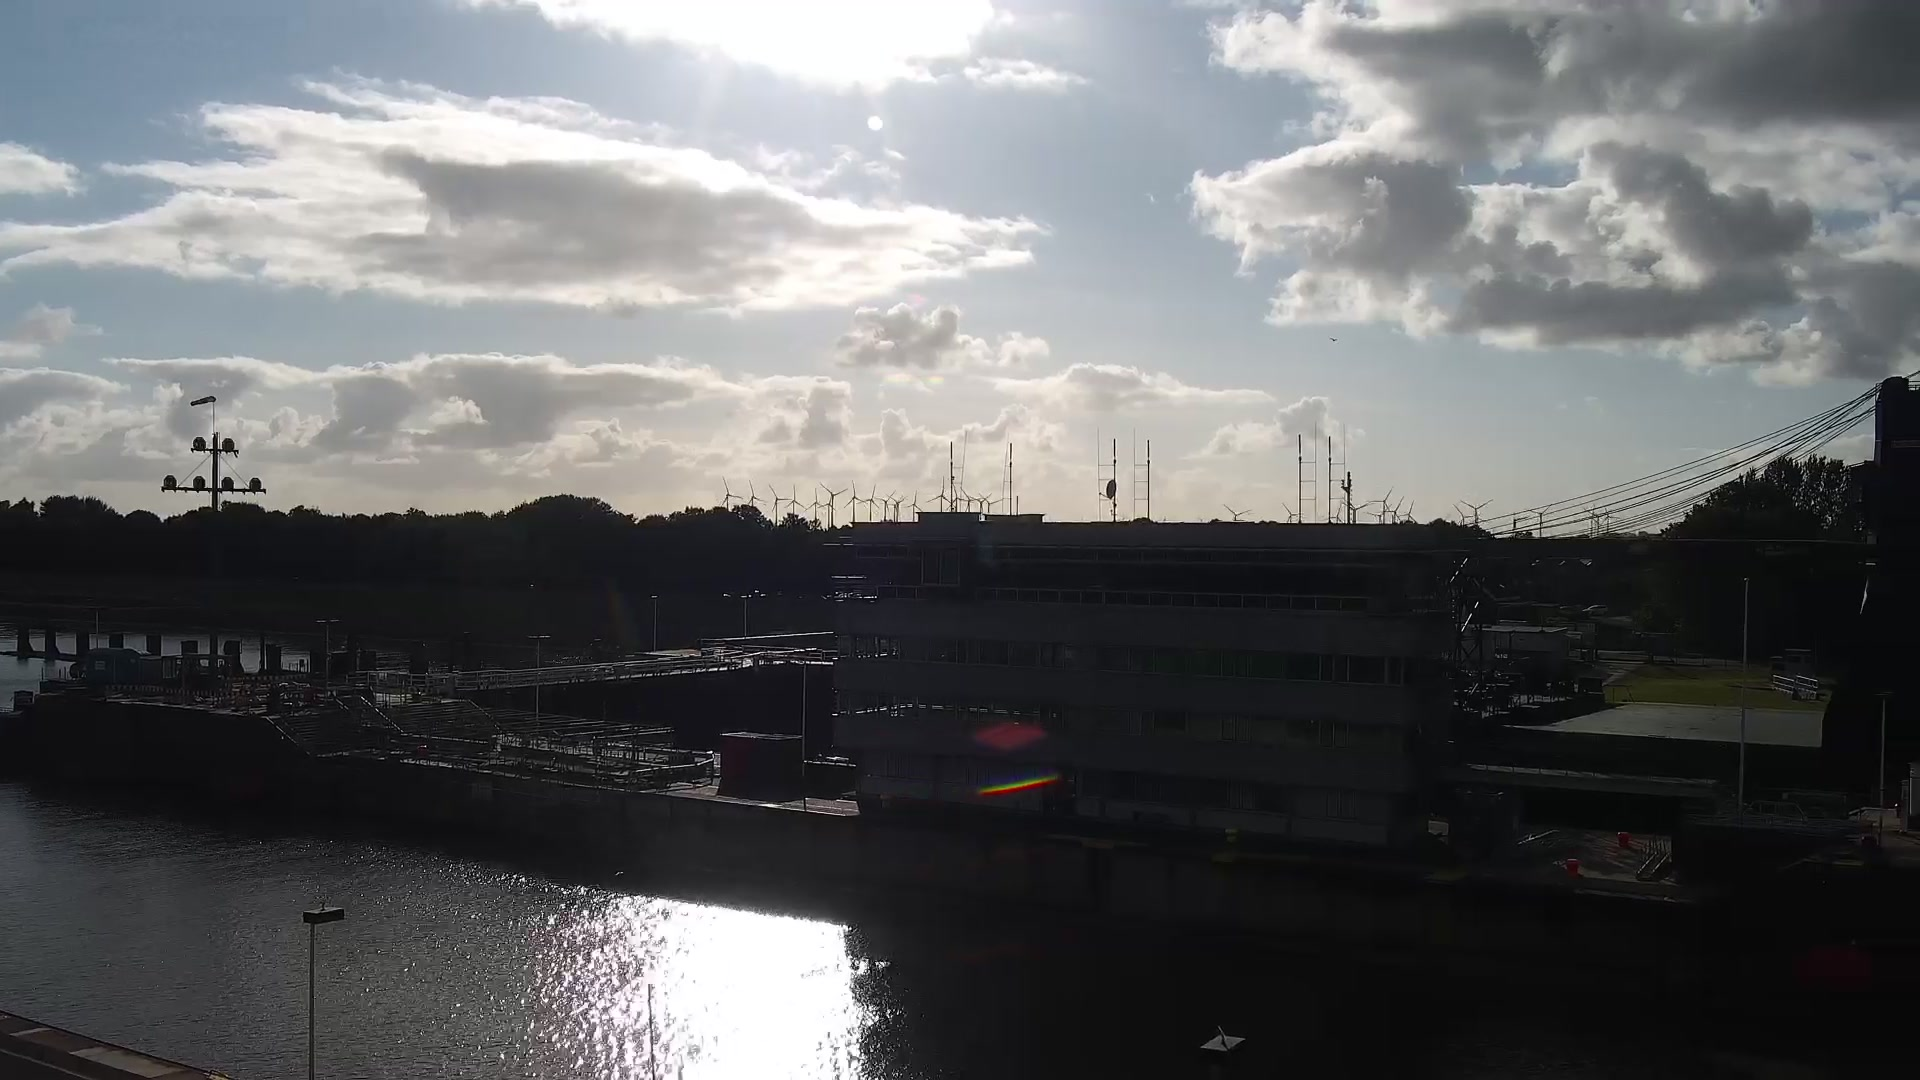land: (1581, 603, 1609, 616)
